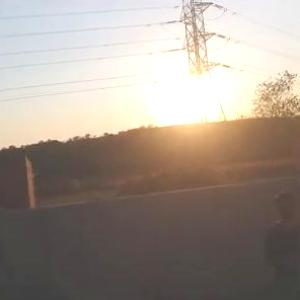follow: (260, 186, 300, 299)
